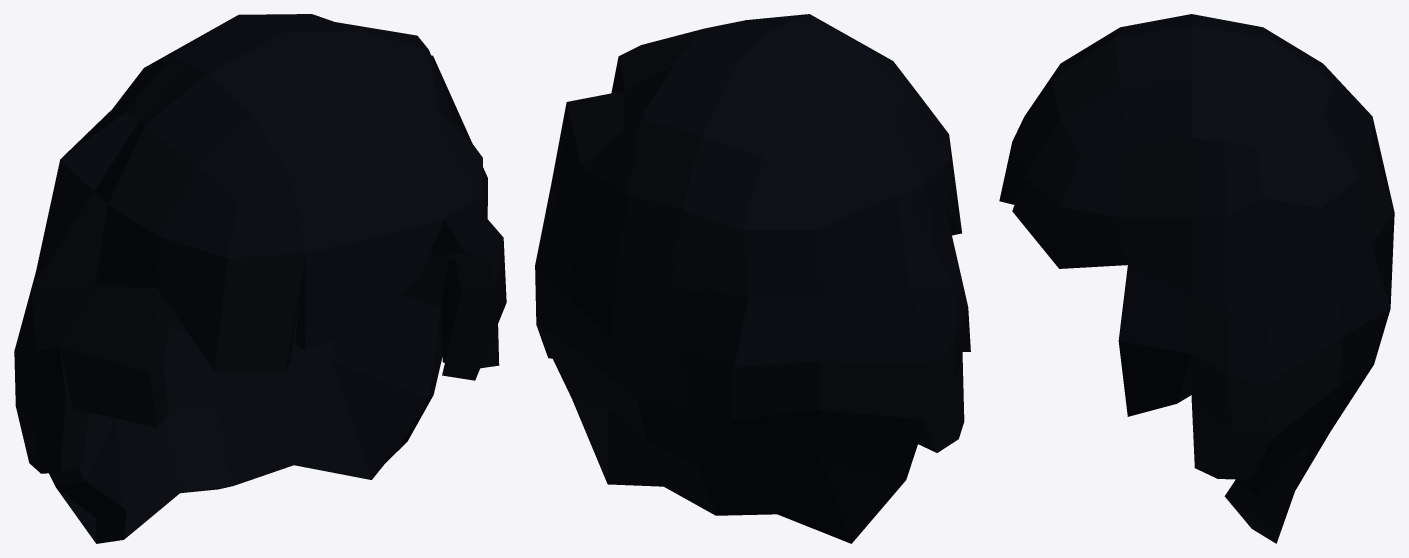
File: JorgeCharacterHair.fbx
3 renders of one model, left to right at view 1: azimuth 30°, elevation 25°; view 2: azimuth 150°, elevation 25°; view 3: azimuth 270°, elevation 25°, orthographic. The views are drawn at different scales.
Parts seen in each view (by area): view 1: Cube; view 2: Cube; view 3: Cube.
Boxes of the visible parts, x1,y1,x2,y2 form: Cube: (14, 14, 506, 543); Cube: (535, 14, 970, 543); Cube: (999, 14, 1394, 543).
Bounding box in the file's own units: 31.71 × 34.03 × 26.64.
